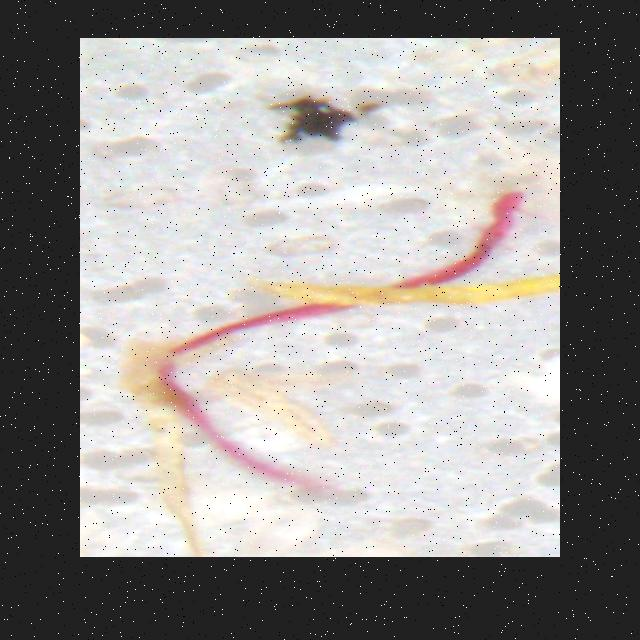Fibre: (115, 190, 561, 554)
